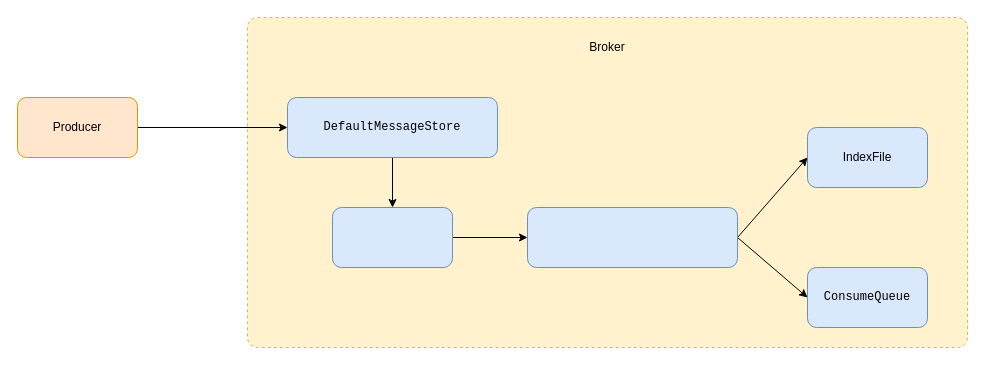
This 985x365 diagram has some shape labels left out. The centre of each missing label's shape, as x and y in pixels:
CommitLog: the point at 392,237
ReputMessageService: the point at 632,237
